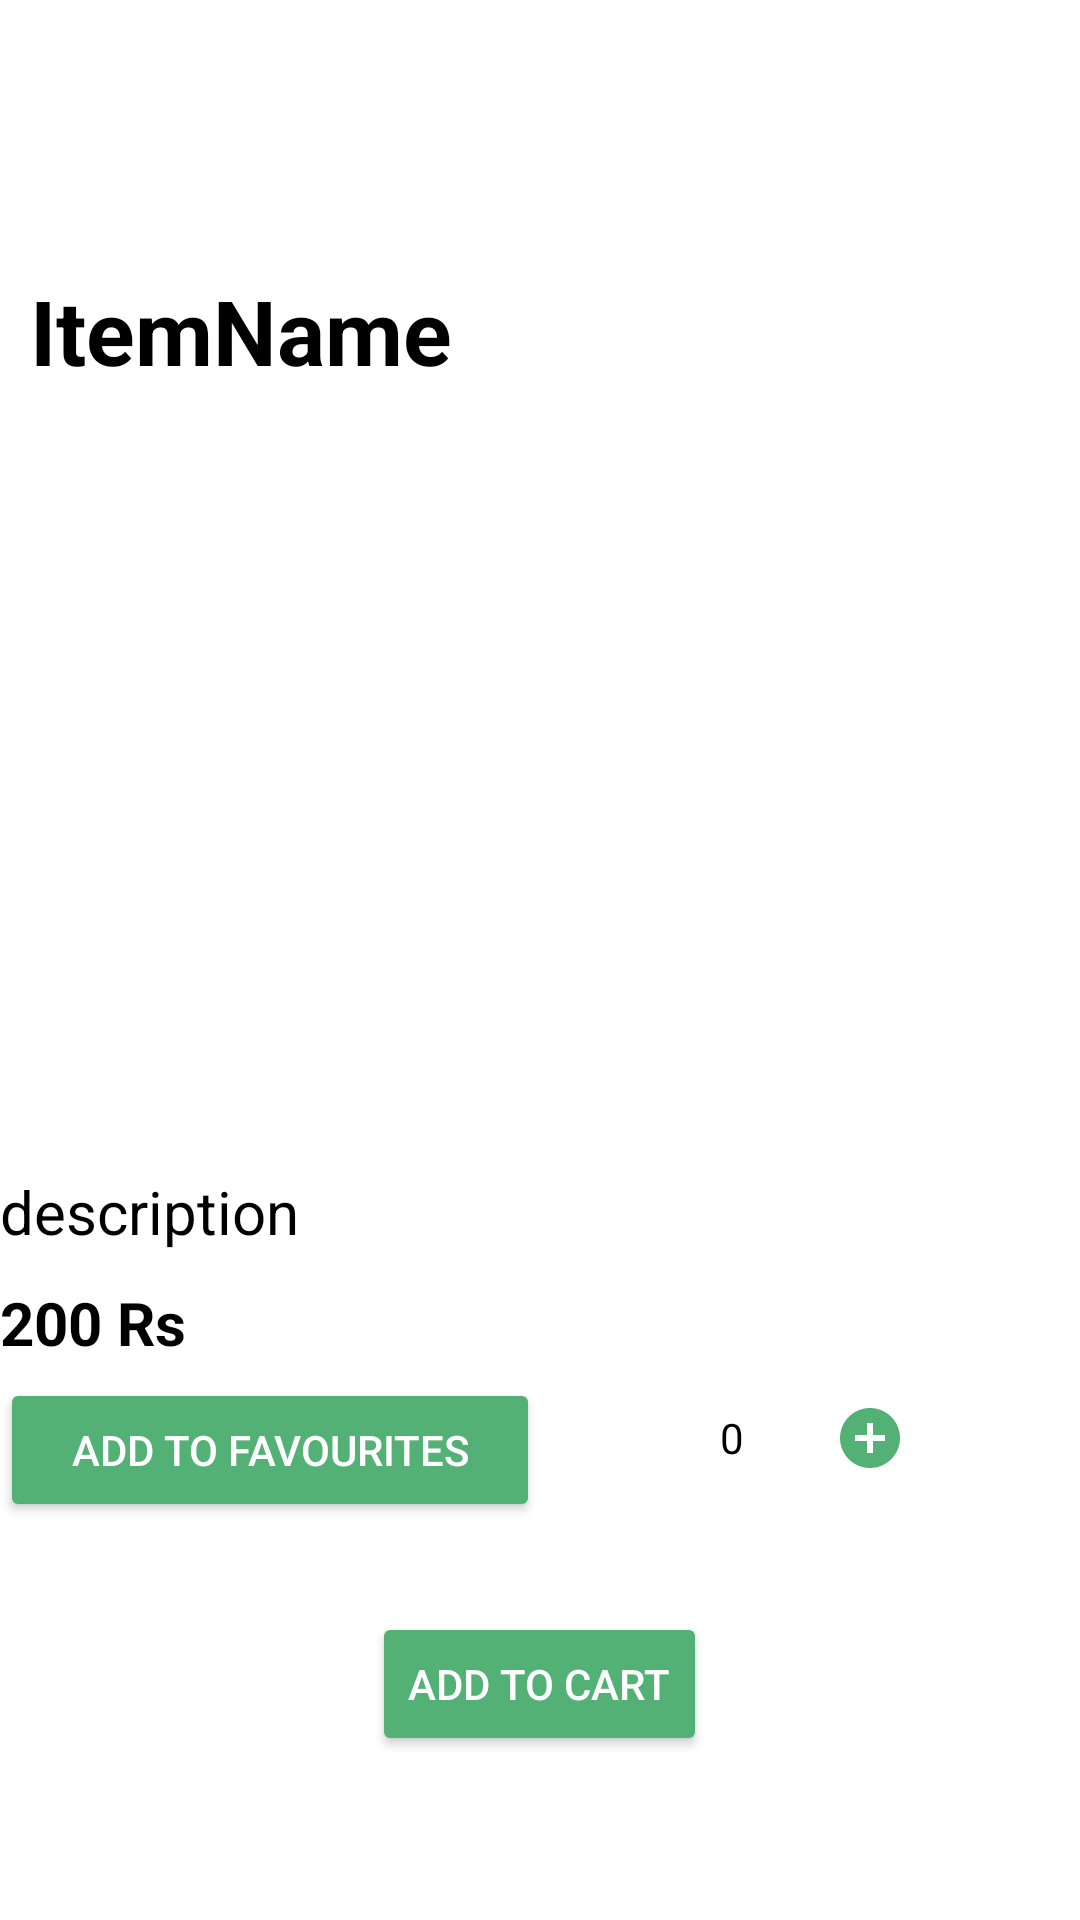

Named icons in this screenshot (1080x1920) and their bounding boxes, (x1, y1, x2, y2):
add circle: (840, 1408, 900, 1468)
